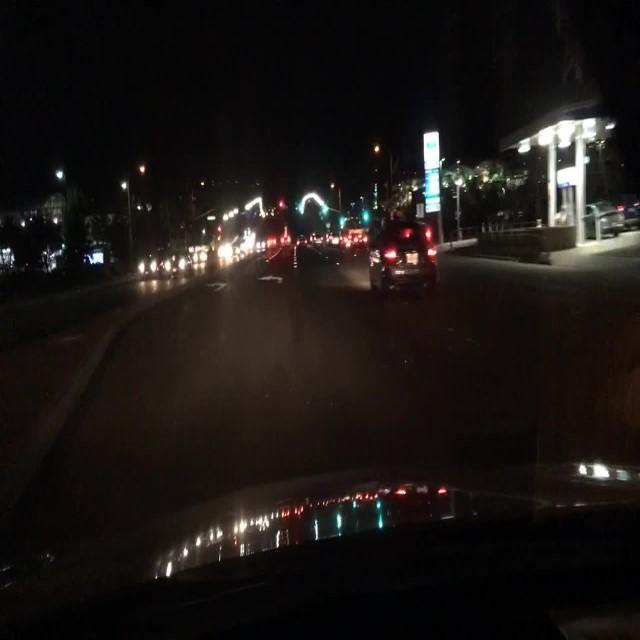normal: (345, 209, 452, 316)
